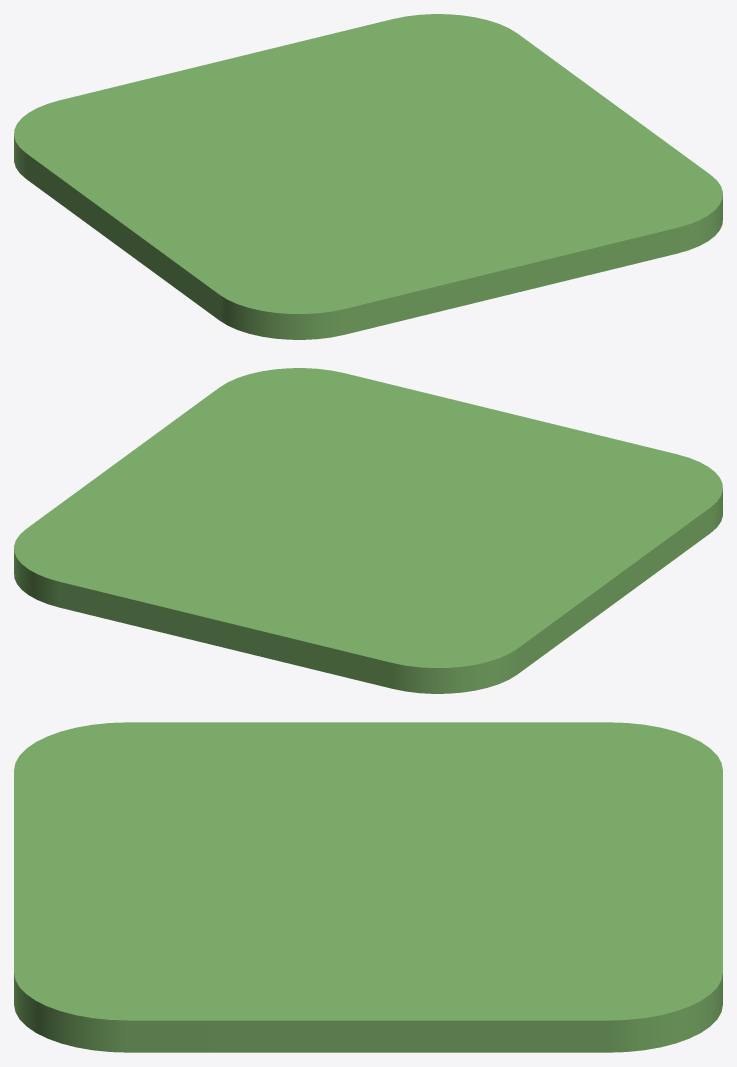
File: gizmoMoveXZ.fbx
The picture shows the model from 3 angles, top to bottom: view 1: azimuth 30°, elevation 25°; view 2: azimuth 150°, elevation 25°; view 3: azimuth 270°, elevation 25°; orthographic projection. The views are drawn at different scales.
Visible parts, largest first — view 1: gizmoMoveXZ; view 2: gizmoMoveXZ; view 3: gizmoMoveXZ.
Part boxes in pixels (x1,y1,x2,y2): gizmoMoveXZ: [14, 14, 722, 339]; gizmoMoveXZ: [14, 368, 722, 693]; gizmoMoveXZ: [14, 722, 722, 1052].
Bounding box in the file's own units: 6.01 × 0.3023 × 6.05.
1 material, 1 textured.
